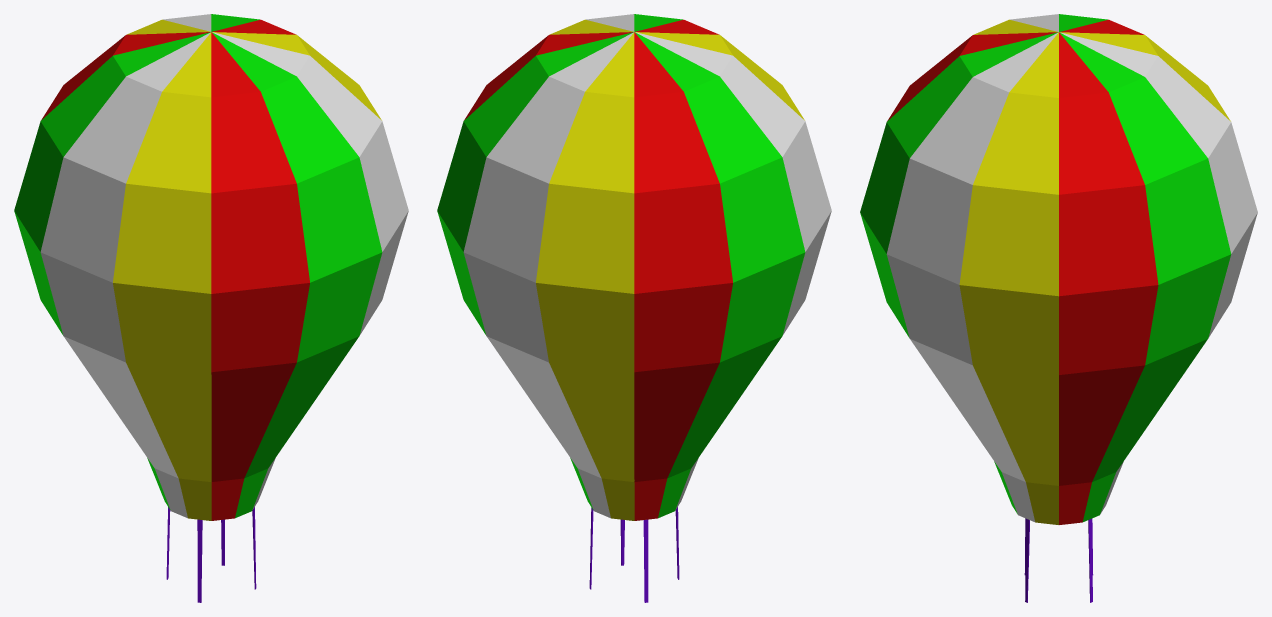
File: balloon_uv.fbx
The picture shows the model from 3 angles, left to right: view 1: azimuth 30°, elevation 25°; view 2: azimuth 150°, elevation 25°; view 3: azimuth 270°, elevation 25°; orthographic projection.
Parts seen in each view (by area): view 1: balloon; view 2: balloon; view 3: balloon.
Part boxes in pixels (<box>): balloon: <box>14,14,408,602</box>; balloon: <box>437,14,831,602</box>; balloon: <box>860,14,1257,602</box>.
Bounding box in the file's own units: 850 × 1312 × 850.
